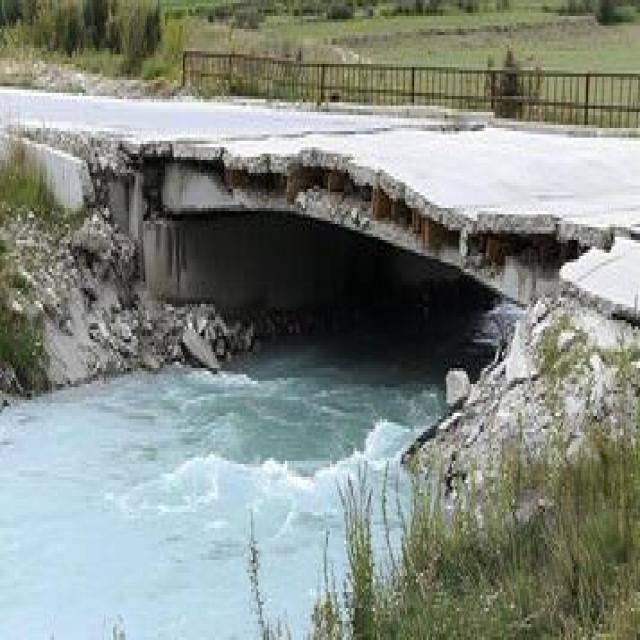road collapse: (53, 90, 600, 522)
